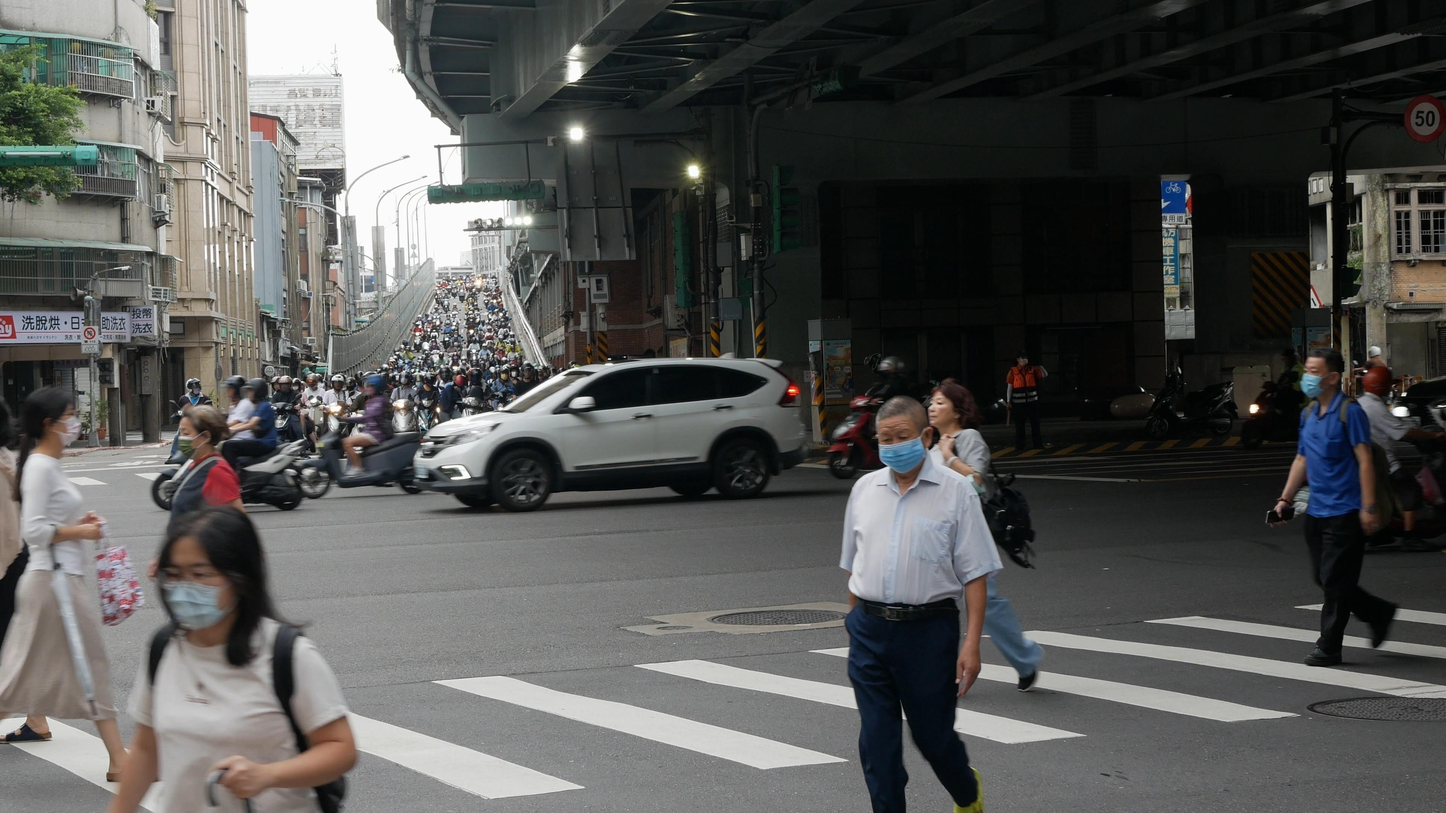driver: (151, 378, 303, 511), (1357, 366, 1446, 553), (298, 374, 423, 500), (826, 355, 906, 480)
helmet: (1362, 366, 1392, 397), (239, 378, 268, 403), (220, 375, 248, 399), (879, 355, 906, 379), (364, 374, 386, 396), (398, 371, 412, 391), (186, 378, 202, 395), (278, 375, 293, 393), (330, 374, 345, 391), (470, 368, 483, 386), (521, 363, 534, 379), (306, 373, 318, 389), (454, 375, 467, 389), (439, 366, 450, 382), (1368, 346, 1381, 359), (424, 373, 436, 387), (270, 376, 281, 391), (498, 366, 509, 381), (345, 377, 356, 391), (291, 378, 301, 391)
no-helmet: (157, 504, 310, 667), (13, 385, 81, 460), (875, 395, 933, 474), (178, 402, 231, 459), (927, 377, 984, 427), (1300, 349, 1343, 398)
